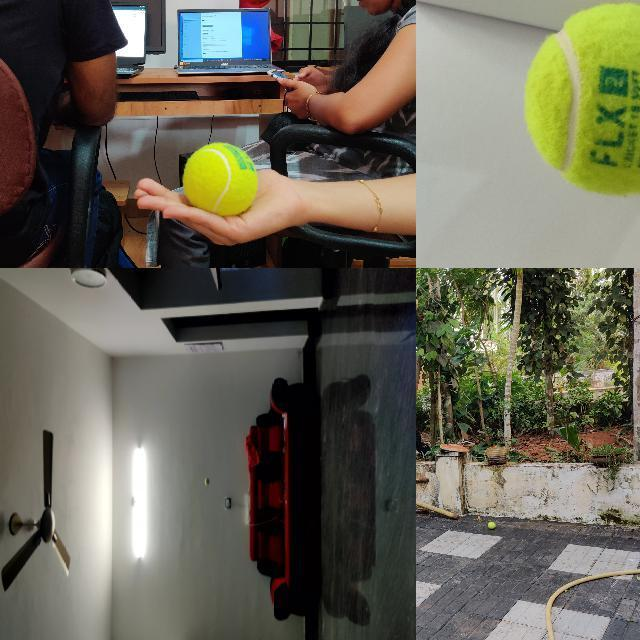tennis-ball: (522, 1, 639, 197), (184, 143, 257, 214), (487, 522, 495, 529), (204, 477, 209, 484)
